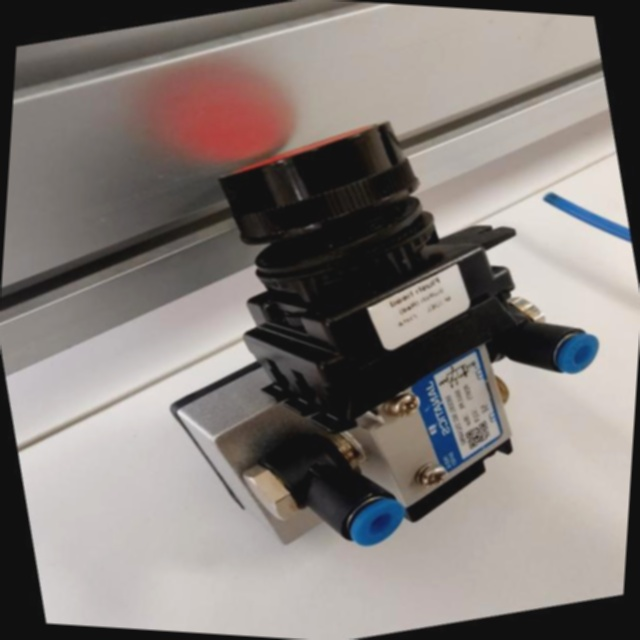push button: (104, 64, 640, 600)
